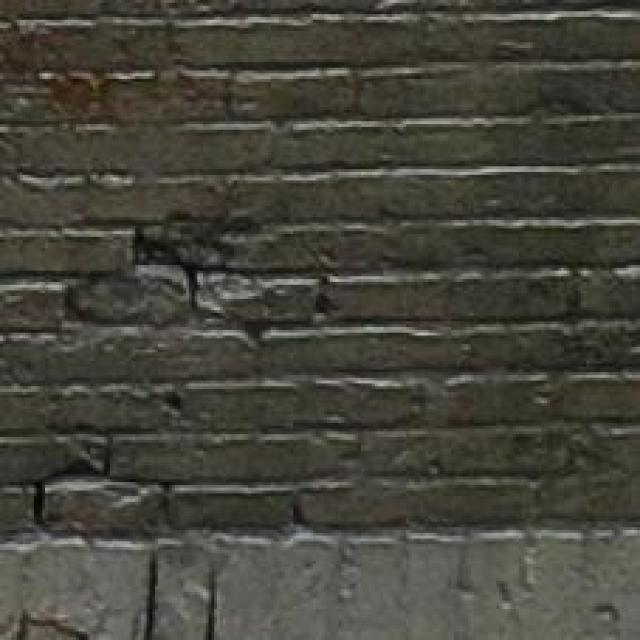Crack: (9, 81, 504, 416)
